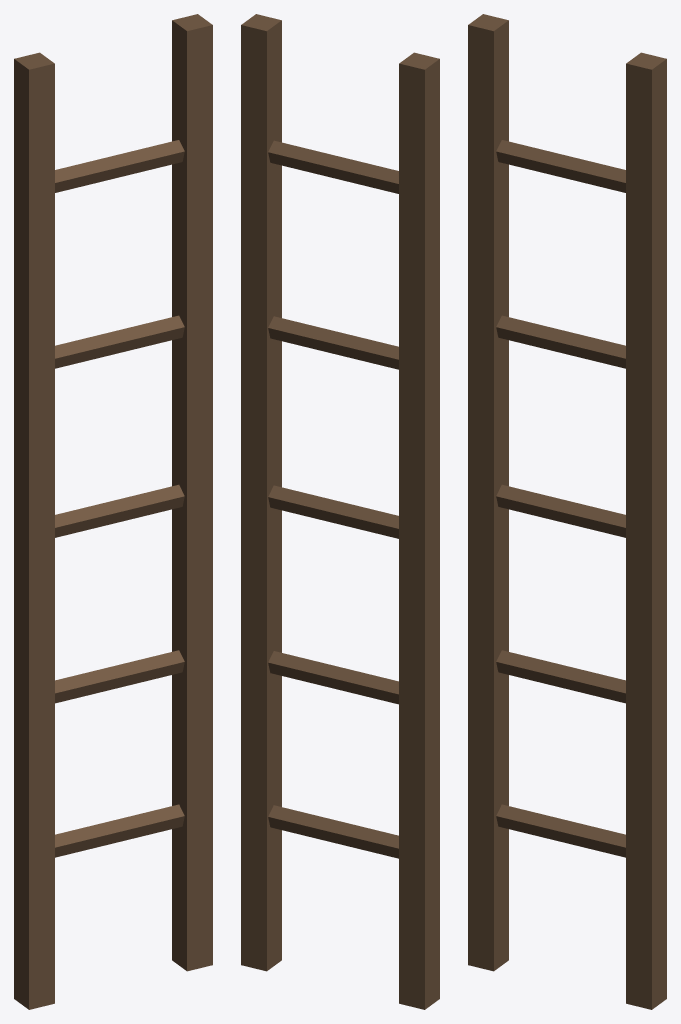
File: Ladder.fbx
3 views of the same model, side by side, from view 1: azimuth 30°, elevation 25°; view 2: azimuth 150°, elevation 25°; view 3: azimuth 330°, elevation 25° (orthographic).
Parts seen in each view (by area): view 1: Latter; view 2: Latter; view 3: Latter.
Part boxes in pixels (bbox=[...]): Latter: bbox=[14, 14, 212, 1009]; Latter: bbox=[241, 14, 439, 1009]; Latter: bbox=[468, 14, 666, 1009].
Size of the model in its own units: 1.08 by 5.26 by 0.1522.
